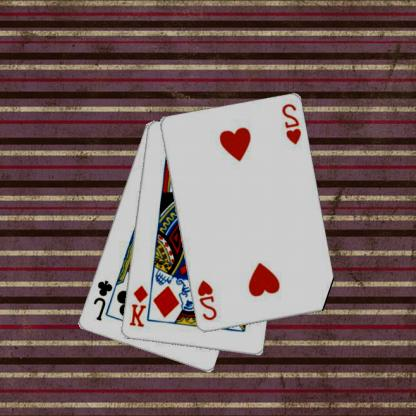2H: (196, 278, 220, 322), (281, 101, 304, 146)
JC: (92, 278, 116, 322)
KD: (128, 282, 150, 328)
